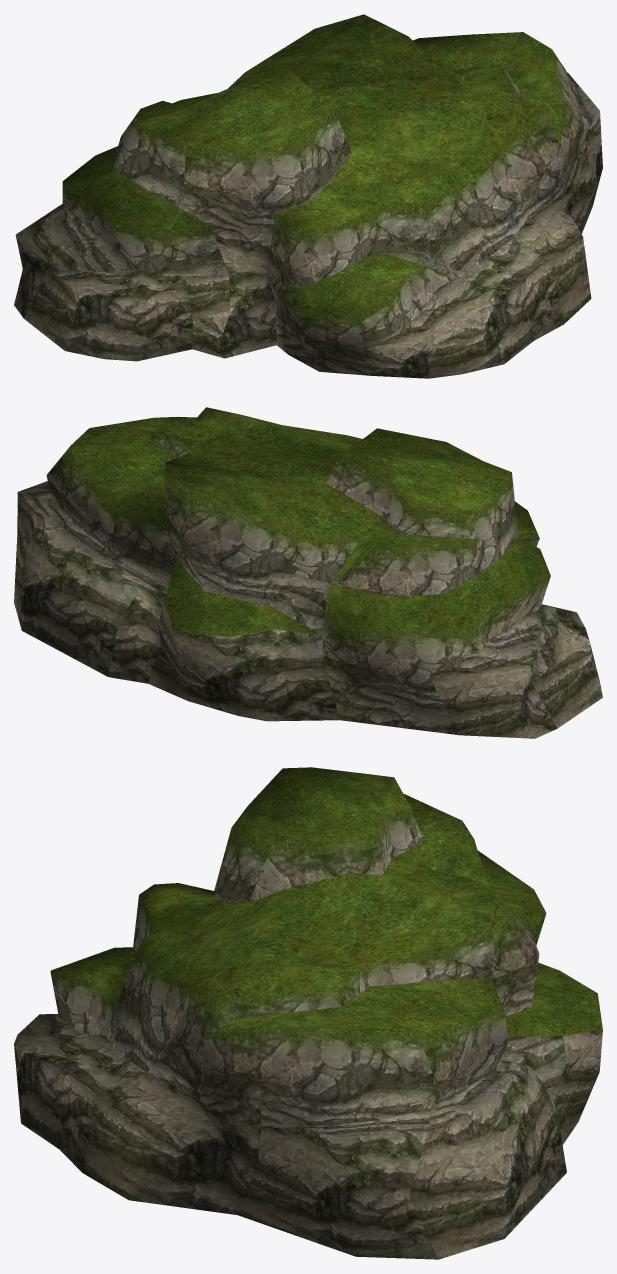
Rendered from Yland1_st_05 Yland1.FBX.
3 renders of one model, top to bottom at view 1: azimuth 30°, elevation 25°; view 2: azimuth 150°, elevation 25°; view 3: azimuth 270°, elevation 25°, orthographic. The views are drawn at different scales.
Parts seen in each view (by area): view 1: Yland1_st_05 Yland1; view 2: Yland1_st_05 Yland1; view 3: Yland1_st_05 Yland1.
Boxes of the visible parts, x1,y1,x2,y2 form: Yland1_st_05 Yland1: (14, 14, 602, 378); Yland1_st_05 Yland1: (14, 407, 602, 738); Yland1_st_05 Yland1: (14, 767, 602, 1259).
Bounding box in the file's own units: 4.36 × 1.55 × 3.32.
